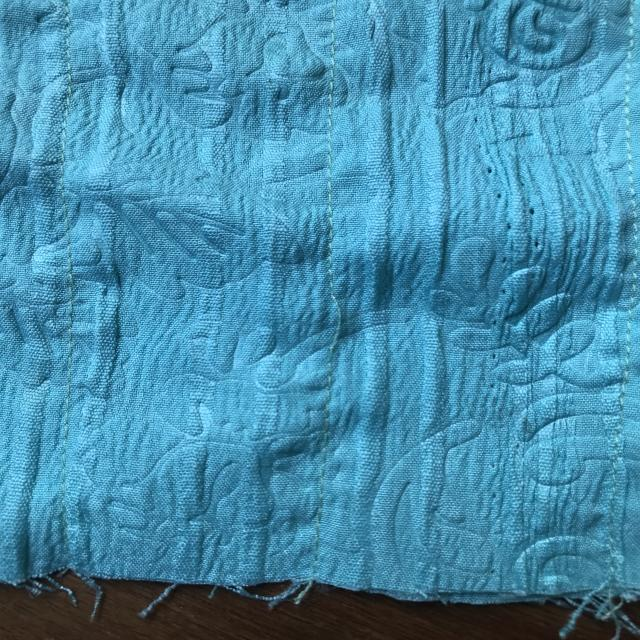skip: (308, 278, 358, 366)
